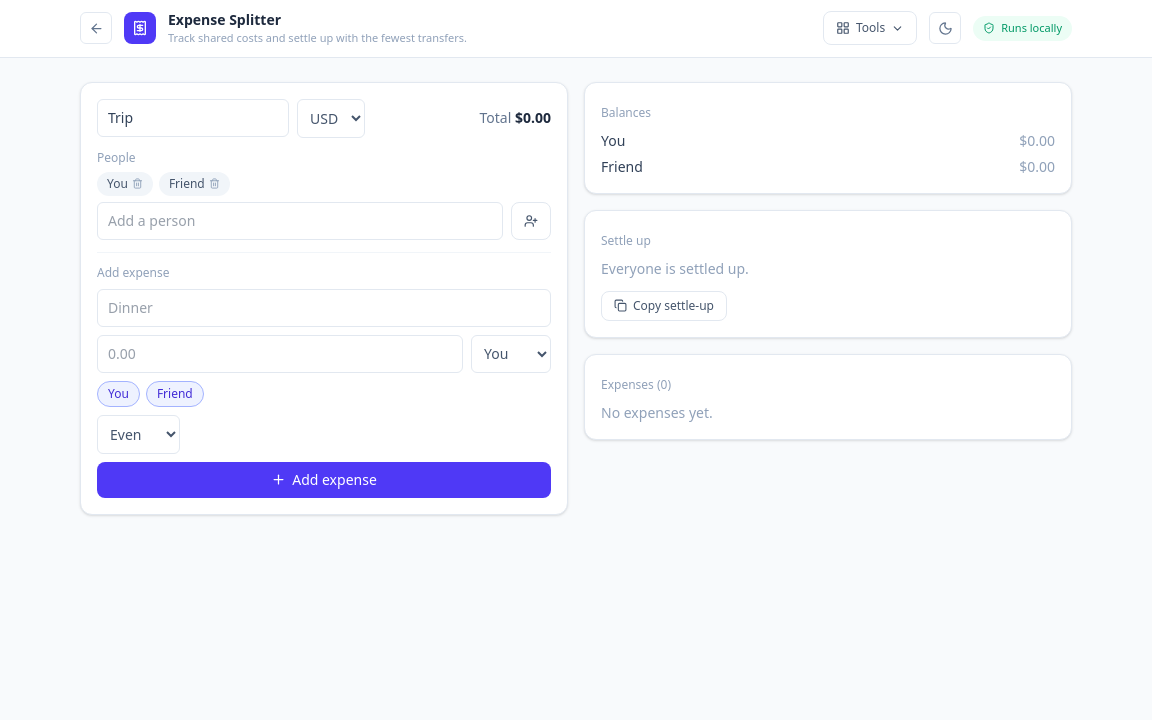
Test: SplitApp › reveals per-person inputs when choosing Exact
This screenshot has width=1152, height=720.
Select "Exact" in the dropdown named "Split mode" at (138, 434), box [97,414,180,454]
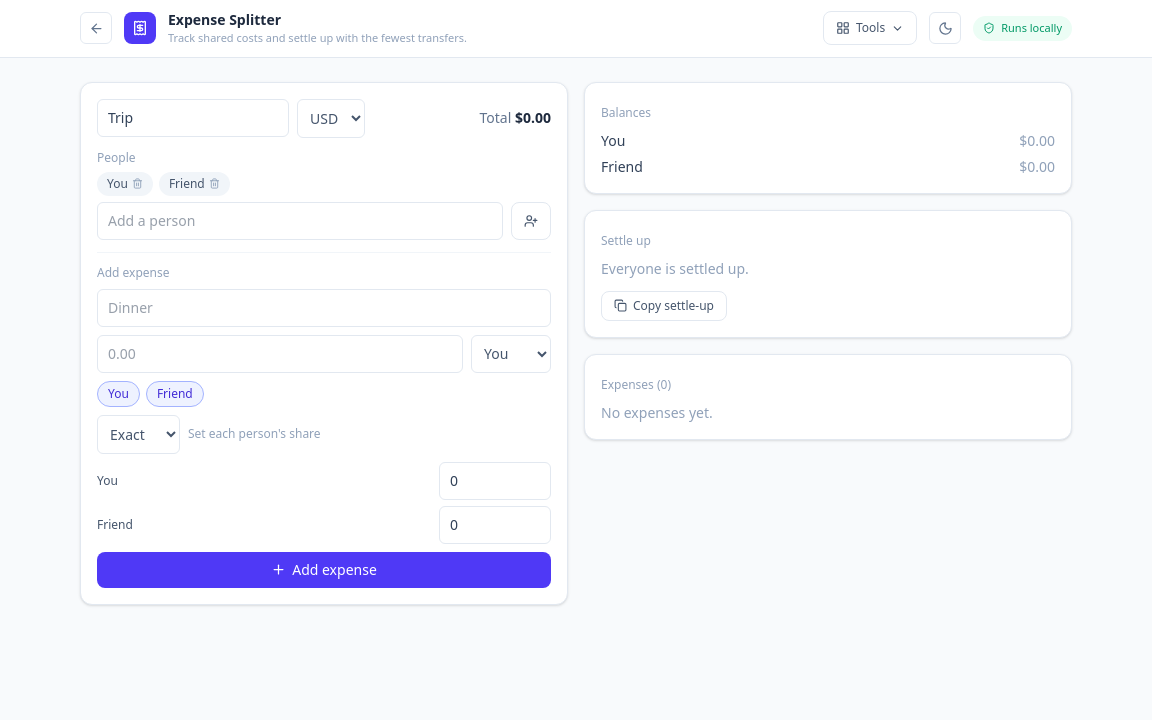
Result: the number field named "You split value" is shown at [439,462,551,500]
Result: the number field named "Friend split value" is shown at [439,506,551,544]
